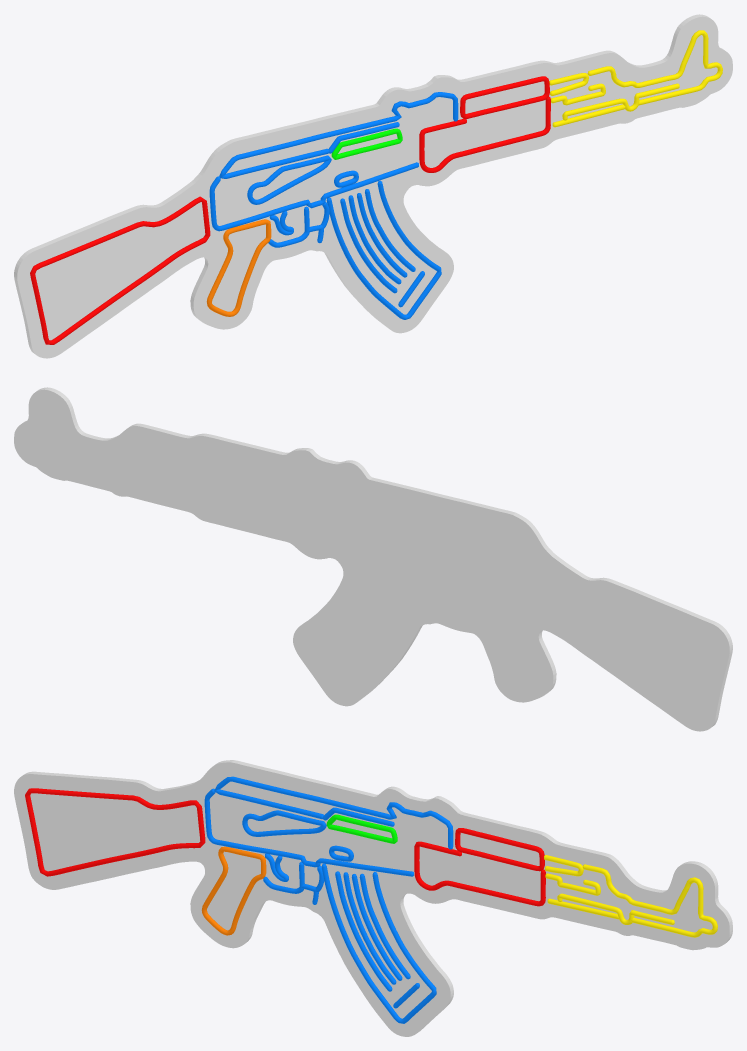
3 renders of one model, top to bottom at view 1: azimuth 30°, elevation 25°; view 2: azimuth 150°, elevation 25°; view 3: azimuth 330°, elevation 25°, orthographic.
Bounding box in the file's own units: 913 × 300 × 12.
